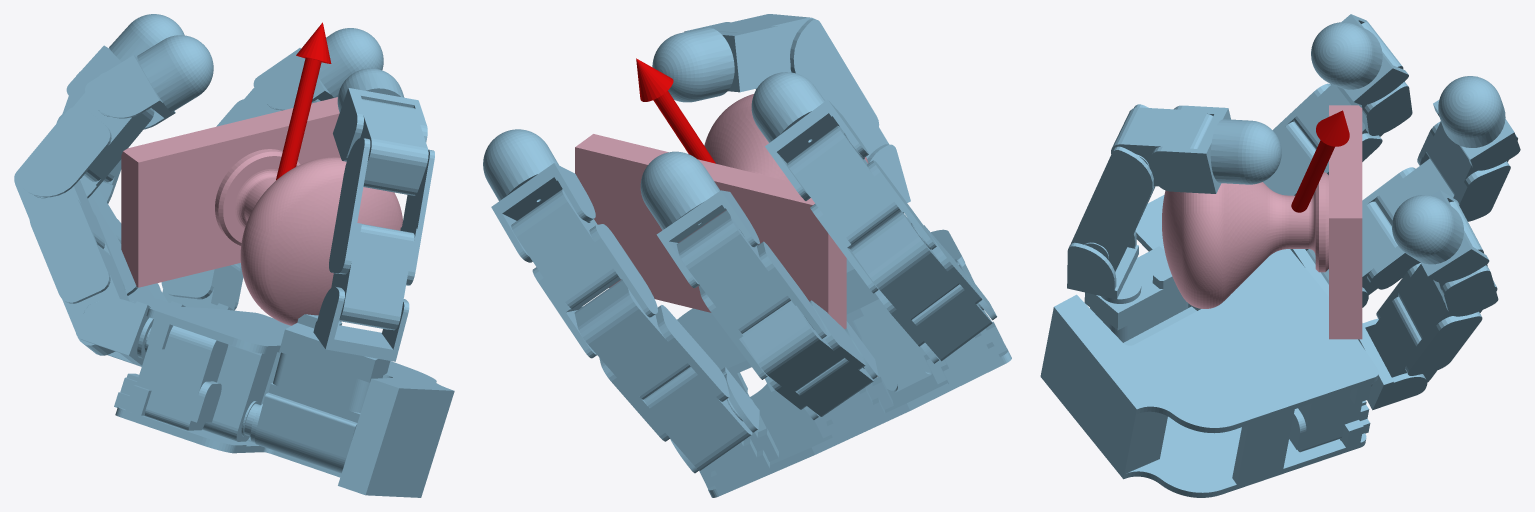
The picture shows the model from 3 angles, left to right: view 1: azimuth 30°, elevation 25°; view 2: azimuth 150°, elevation 25°; view 3: azimuth 270°, elevation 25°; orthographic projection. The views are drawn at different scales.
Parts seen in each view (by area): view 1: world, door_knob.stl; view 2: world, door_knob.stl; view 3: world, door_knob.stl.
Boxes of the visible parts, <box> form: world: <box>14,14,454,497</box>; door_knob.stl: <box>121,97,402,325</box>; world: <box>483,14,1011,497</box>; door_knob.stl: <box>575,94,868,329</box>; world: <box>1040,14,1520,497</box>; door_knob.stl: <box>1162,105,1362,339</box>.
Bounding box in the file's own units: 0.1649 × 0.1686 × 0.1796.
